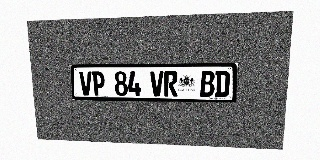4: (128, 71, 141, 96)
8: (114, 71, 128, 96)
B: (200, 71, 215, 97)
D: (215, 71, 230, 97)
P: (92, 71, 105, 96)
R: (164, 71, 178, 96)
V: (150, 71, 164, 96), (79, 71, 92, 95)
